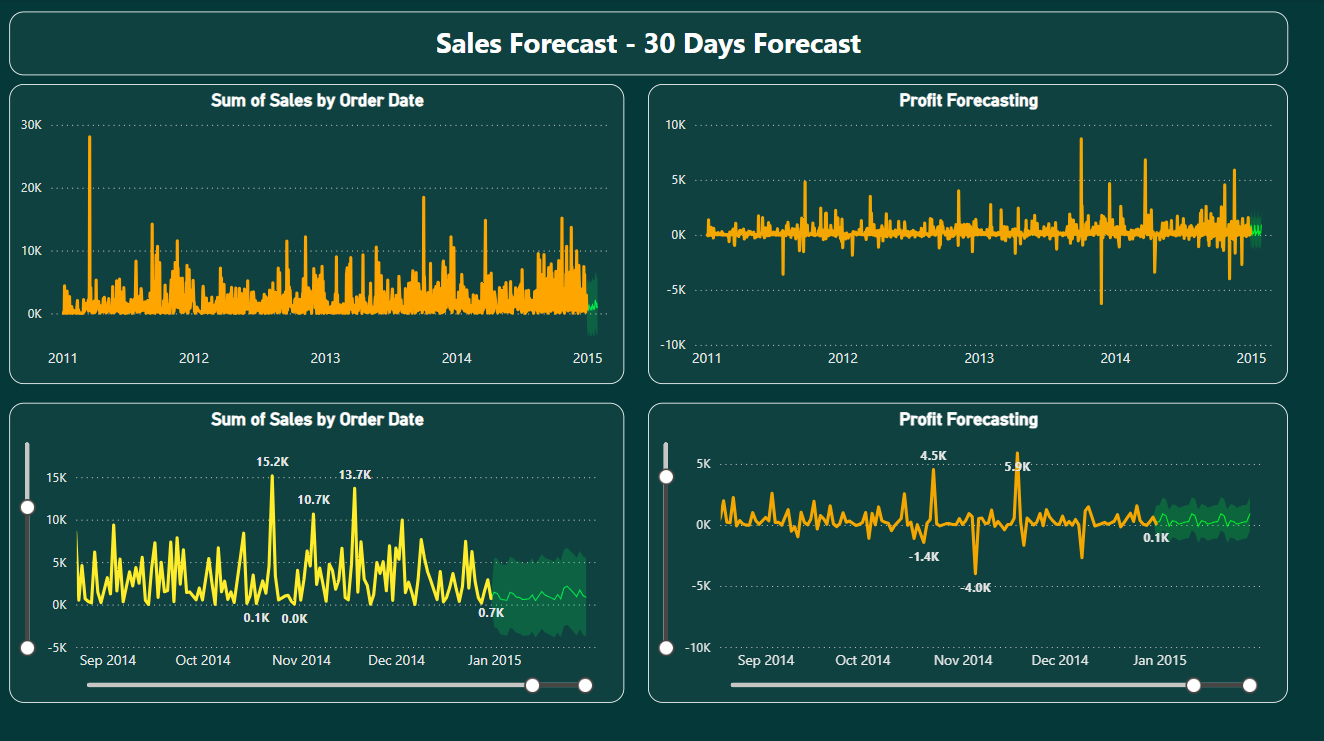

This screenshot's page, from the dashboard's own definition file:
{"tool":"powerbi","page":{"name":"Page 2","canvas":[1280,720],"ordinal":1},"visuals":[{"type":"lineChart","fields":{"Y":["Sum(Worksheet.Sales)"],"Category":["Worksheet.Order Date"]},"box":[10.9,82,593.6,289.5],"z":0},{"type":"lineChart","fields":{"Y":["Sum(Worksheet.Sales)"],"Category":["Worksheet.Order Date"]},"box":[10.9,389.7,593.6,289.5],"z":1000},{"type":"lineChart","title":"Profit Forecasting","fields":{"Category":["Worksheet.Order Date"],"Y":["Sum(Worksheet.Profit)"]},"box":[627.3,82,617.7,289.5],"z":2000},{"type":"lineChart","title":"Profit Forecasting","fields":{"Category":["Worksheet.Order Date"],"Y":["Sum(Worksheet.Profit)"]},"box":[627.3,389.7,617.7,289.5],"z":3000},{"type":"textbox","box":[10.9,12.1,1234.2,61.5],"z":4000}]}

Visuals, with their boxes in screenshot pixels (x1, y1, x2, y2), scaled from the page's 1280x720 canvas onto the 1324x741 screenshot:
lineChart - Sum(Worksheet.Sales) x Worksheet.Order Date: (11,84,625,382)
lineChart - Sum(Worksheet.Sales) x Worksheet.Order Date: (11,401,625,699)
"Profit Forecasting" lineChart: (649,84,1288,382)
"Profit Forecasting" lineChart: (649,401,1288,699)
textbox: (11,12,1288,76)
